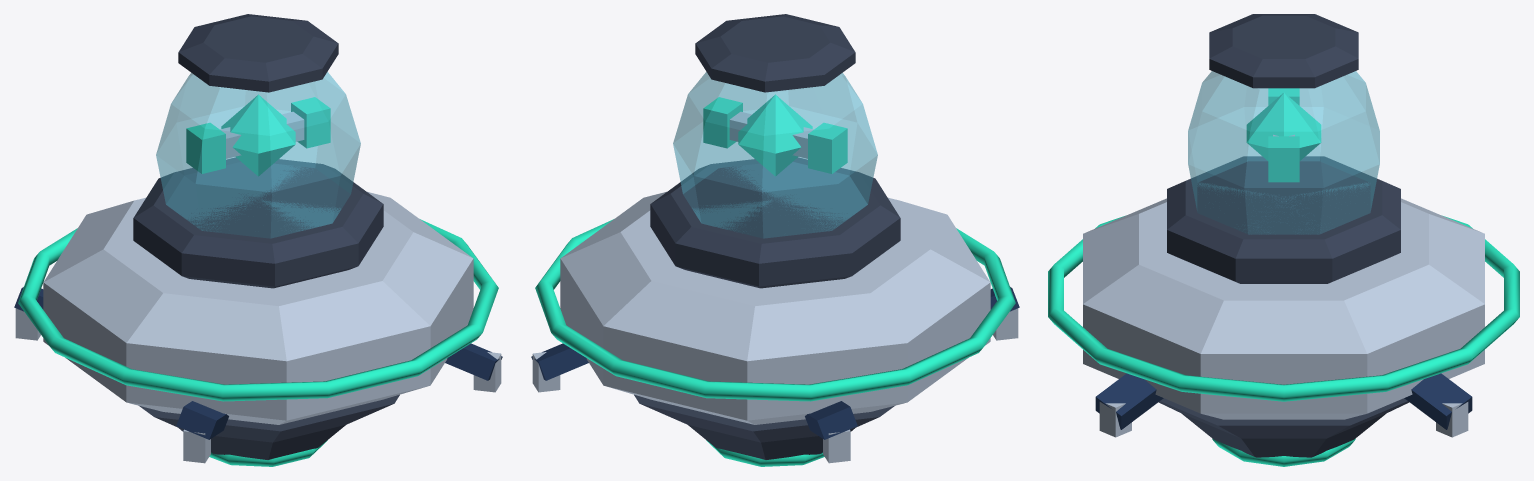
The model's file is AirProp_OutputBeaconDrone.obj.
3 renders of one model, left to right at view 1: azimuth 30°, elevation 25°; view 2: azimuth 150°, elevation 25°; view 3: azimuth 270°, elevation 25°, orthographic.
Parts seen in each view (by area): view 1: Drone_Chassis, Drone_DomeGlass, Drone_PulseRing, Drone_SirenRotor; view 2: Drone_Chassis, Drone_DomeGlass, Drone_PulseRing, Drone_SirenRotor; view 3: Drone_Chassis, Drone_DomeGlass, Drone_PulseRing, Drone_SirenRotor.
Boxes of the visible parts, x1=… form: Drone_Chassis: x1=14, y1=14, x2=502, y2=466; Drone_DomeGlass: x1=156, y1=72, x2=360, y2=238; Drone_PulseRing: x1=18, y1=219, x2=498, y2=401; Drone_SirenRotor: x1=186, y1=94, x2=330, y2=176; Drone_Chassis: x1=531, y1=14, x2=1019, y2=466; Drone_DomeGlass: x1=673, y1=72, x2=877, y2=238; Drone_PulseRing: x1=535, y1=219, x2=1015, y2=401; Drone_SirenRotor: x1=703, y1=94, x2=847, y2=176; Drone_Chassis: x1=1083, y1=14, x2=1484, y2=466; Drone_DomeGlass: x1=1188, y1=71, x2=1379, y2=234; Drone_PulseRing: x1=1048, y1=215, x2=1519, y2=401; Drone_SirenRotor: x1=1246, y1=88, x2=1321, y2=182.
Bounding box in the file's own units: 0.956 × 0.9 × 0.932.
